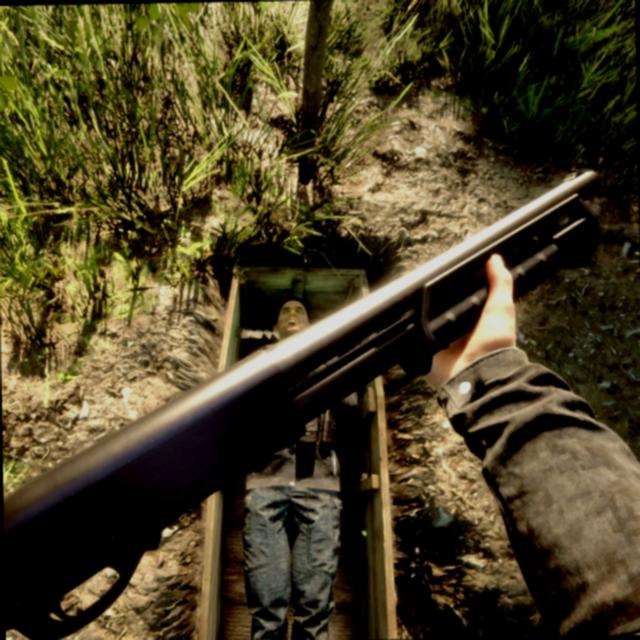shotgun: (0, 166, 635, 638)
